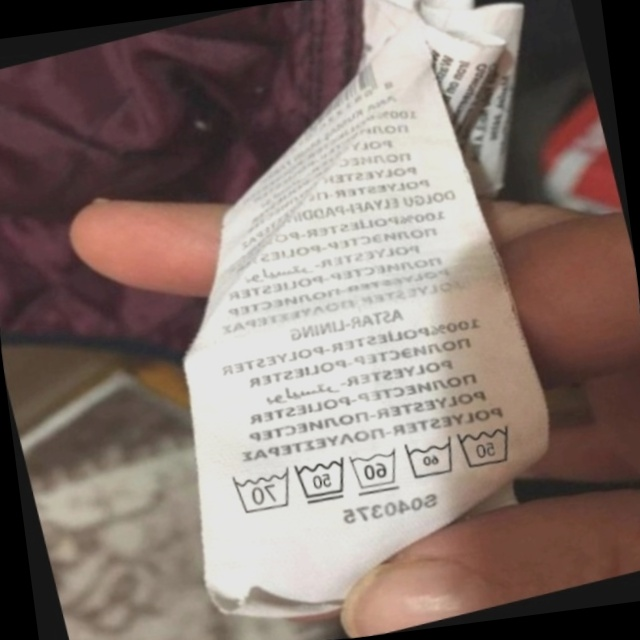50C: (441, 405, 530, 486), (280, 442, 362, 520)
60C: (334, 433, 413, 508), (390, 422, 468, 495)
70C: (215, 453, 304, 530)
